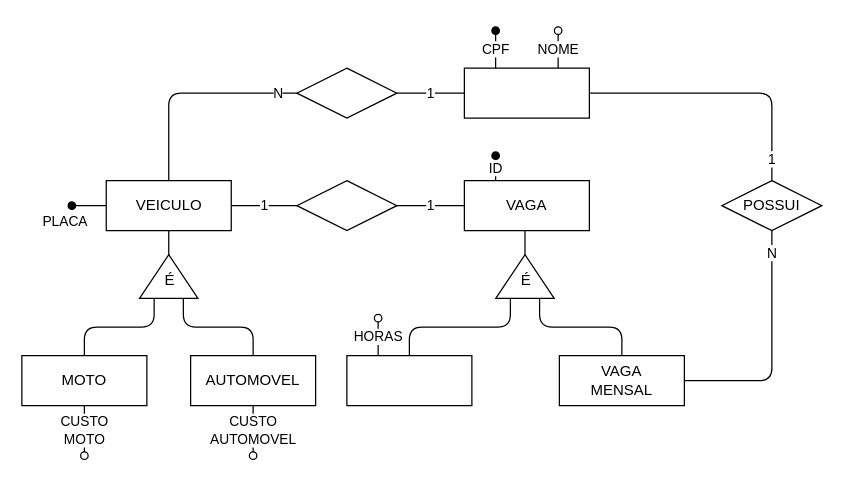
Some shapes in this 844 by 490 pixel diagram are drawn without their labels. Here are the shapes that lost their labels. From the top down, the box of each, then its label:
(296, 67, 397, 118): ESTACIONA
(463, 67, 589, 118): CLIENTE
(296, 179, 397, 231): OCUPA
(346, 354, 472, 406): VAGA AVULSA
